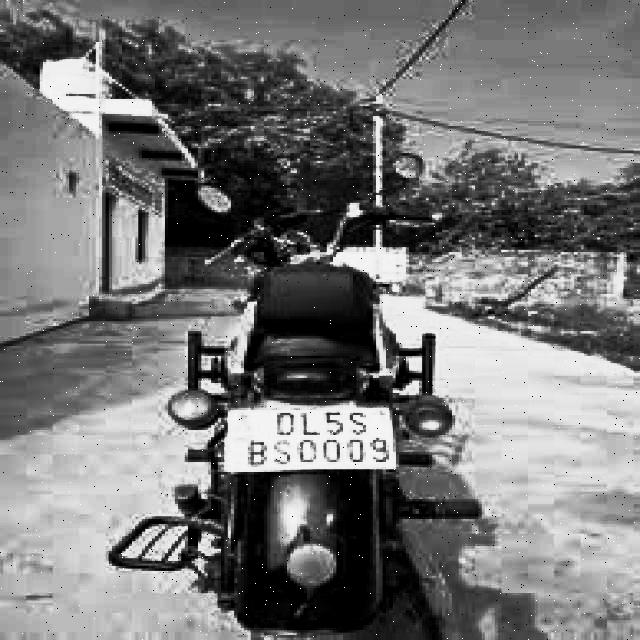Bike: (155, 179, 479, 640)
